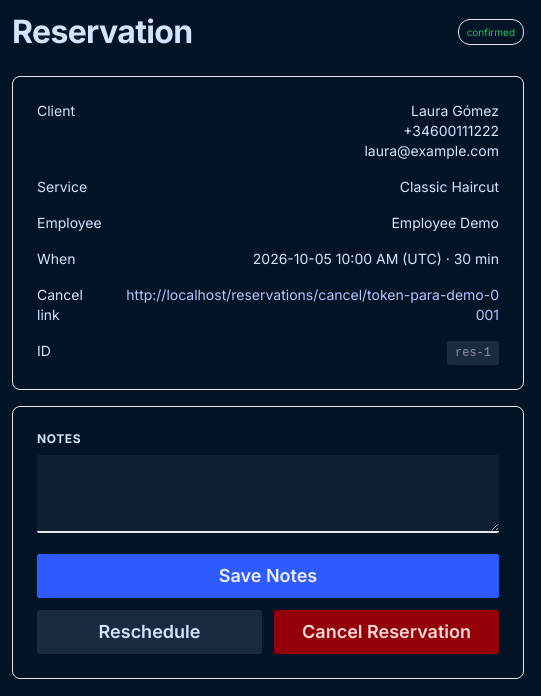
ReservationDetail (detalle) › cancela la reserva con PUT status=cancelled
The image size is (541, 696).
Step 1. Click the button "Cancel Reservation" → click(386, 632), box [274, 610, 499, 654]
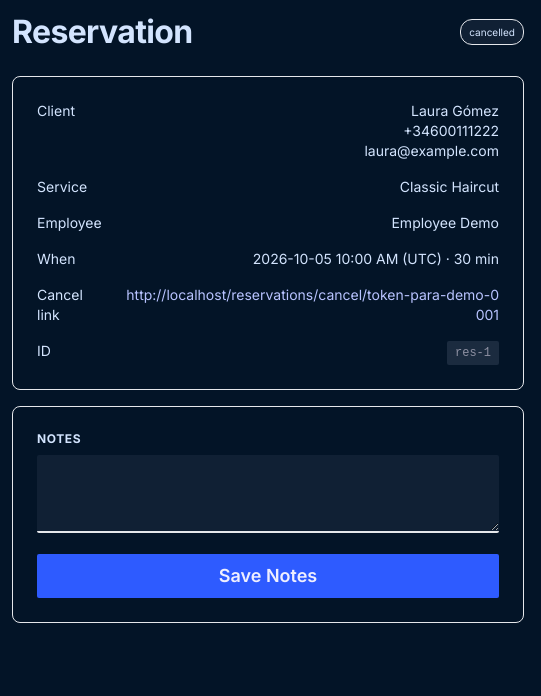
Now the text "cancelled" is shown, box [460, 19, 524, 45]
